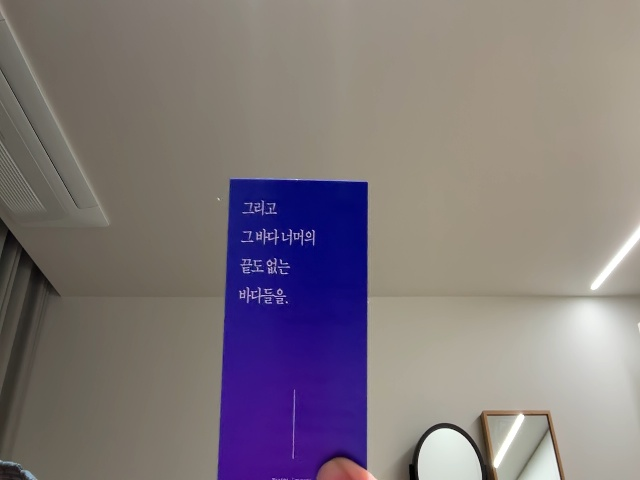card: (217, 180, 370, 480)
